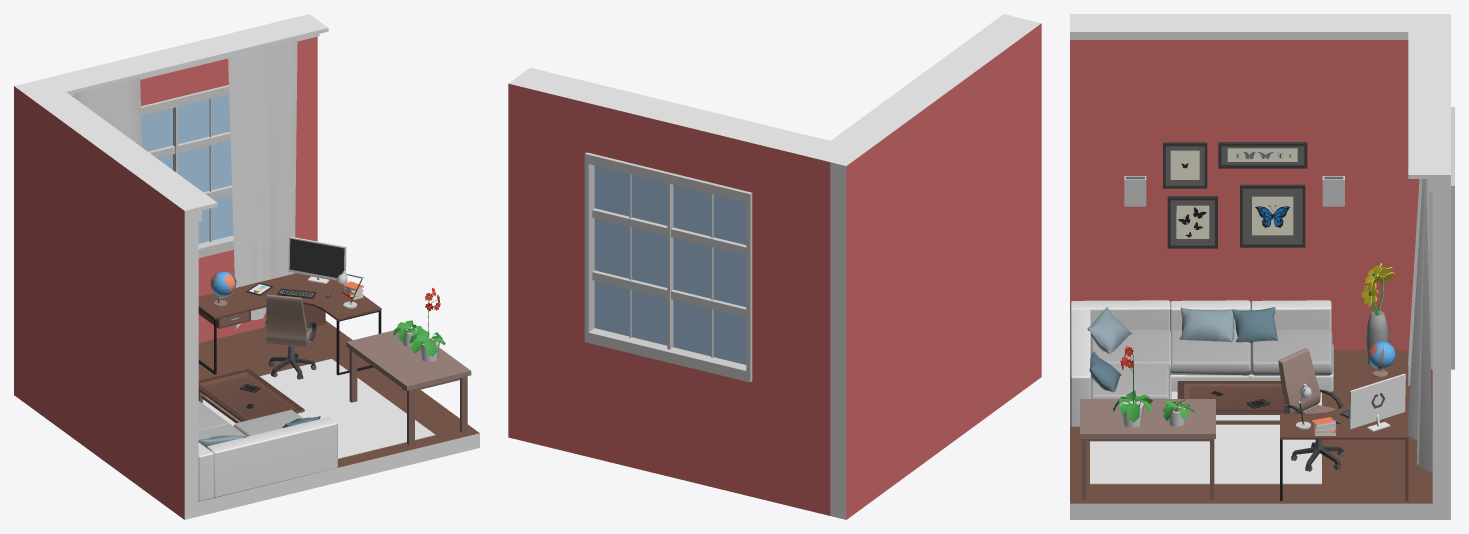
The model's file is room_2.glb.
3 renders of one model, left to right at view 1: azimuth 30°, elevation 25°; view 2: azimuth 150°, elevation 25°; view 3: azimuth 270°, elevation 25°, orthographic. The views are drawn at different scales.
Parts seen in each view (by area): view 1: Walls_133.002, Curtains_020.002, Walls_009.001, sofa_027.002, window_018.003, Walls_003.001, Walls_133.001, office_table_031.001, office_table_023.001, Walls_033.003, Walls_133.005, coffee_table_012.001 (+8 smaller); view 2: Walls_133.002, window_018.003, Walls_133.003, Walls_133.001, Walls_133.004, Walls_133.005, Walls_033.003, Walls_033.002; view 3: Walls_133.002, sofa_027.002, Walls_009.001, Walls_003.001, Walls_133.001, office_table_023.001, Walls_033.002, Curtains_020.002, picture_052.001, office_table_031.001, Walls_033.003, coffee_table_012.001 (+16 smaller).
Boxes of the visible parts, x1,y1,x2,y2 form: Walls_133.002: (14, 82, 198, 519); Curtains_020.002: (228, 39, 297, 328); Walls_009.001: (198, 320, 479, 516); sofa_027.002: (198, 401, 337, 500); window_018.003: (141, 85, 233, 257); Walls_003.001: (202, 359, 435, 458); Walls_133.001: (239, 14, 317, 331); office_table_031.001: (198, 273, 381, 375); office_table_023.001: (346, 330, 471, 445); Walls_033.003: (36, 20, 328, 96); Walls_133.005: (98, 31, 246, 106); coffee_table_012.001: (198, 368, 304, 422); Walls_133.002: (830, 19, 1041, 519); window_018.003: (584, 152, 752, 382); Walls_133.003: (750, 136, 839, 515); Walls_133.001: (508, 77, 597, 456); Walls_133.004: (588, 343, 749, 496); Walls_133.005: (588, 96, 758, 191); Walls_033.003: (518, 67, 851, 155); Walls_033.002: (831, 14, 1024, 145); Walls_133.002: (1070, 14, 1450, 350); sofa_027.002: (1070, 300, 1333, 426); Walls_009.001: (1070, 350, 1432, 519); Walls_003.001: (1090, 391, 1321, 484); Walls_133.001: (1432, 136, 1450, 519); office_table_023.001: (1080, 399, 1215, 499); Walls_033.002: (1070, 21, 1408, 35); Curtains_020.002: (1408, 179, 1432, 472); picture_052.001: (1240, 184, 1305, 247); office_table_031.001: (1280, 364, 1408, 501); Walls_033.003: (1408, 21, 1432, 178); coffee_table_012.001: (1177, 381, 1284, 424).
Size of the model in its own units: 4.2 by 4.2 by 4.24.
Materials: 1 (1 with a texture image).
